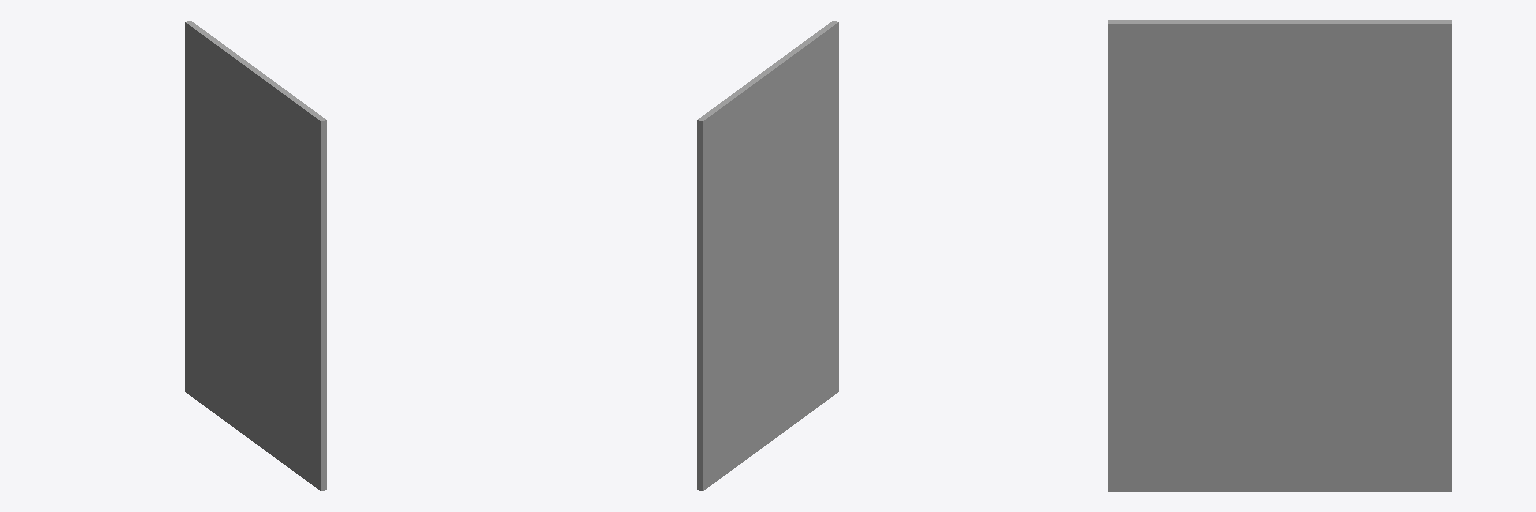
URDF robot description (panda):
<?xml version='1.0' encoding='utf-8'?>
<robot name="panda">

    <link name="link0">
      <inertial>
        <origin xyz="0 0 0.05" rpy="0 0 0" />
        <mass value="4" />
        <inertia ixx="0.4" iyy="0.4" izz="0.4" ixy="0" ixz="0" iyz="0" />
      </inertial>
      <visual>
        <geometry>
          <mesh filename="../../../Model/meshes/visual/link0.obj"/>
        </geometry>
      </visual>
<!--       <collision>
        <geometry>
          <mesh filename="../../../Model/meshes/collision/link0.obj"/>
        </geometry>
      </collision> -->
    </link>
    <link name="link1">
      <inertial>
        <origin xyz="0 0 -0.07" rpy="0 -0 0" />
        <mass value="3" />
        <inertia ixx="0.3" iyy="0.3" izz="0.3" ixy="0" ixz="0" iyz="0" />
      </inertial>
      <visual>
        <geometry>
          <mesh filename="../../../Model/meshes/visual/link1.obj"/>
        </geometry>
      </visual>
      <!-- <collision>
        <geometry>
          <mesh filename="../../../Model/meshes/collision/link1.obj"/>
        </geometry>
      </collision> -->
    </link>
    <link name="link2">
      <inertial>
        <origin xyz="0 -0.1 0" rpy="0 -0 0" />
        <mass value="3" />
        <inertia ixx="0.3" iyy="0.3" izz="0.3" ixy="0" ixz="0" iyz="0" />
      </inertial>
      <visual>
        <geometry>
          <mesh filename="../../../Model/meshes/visual/link2.obj"/>
        </geometry>
      </visual>
      <!-- <collision>
        <geometry>
          <mesh filename="../../../Model/meshes/collision/link2.obj"/>
        </geometry>
      </collision> -->
    </link>
    <link name="link3">
      <inertial>
        <origin xyz="0.04 0 -0.05" rpy="0 -0 0" />
        <mass value="2" />
        <inertia ixx="0.2" iyy="0.2" izz="0.2" ixy="0" ixz="0" iyz="0" />
      </inertial>
      <visual>
        <geometry>
          <mesh filename="../../../Model/meshes/visual/link3.obj"/>
        </geometry>
      </visual>
      <!-- <collision>
        <geometry>
          <mesh filename="../../../Model/meshes/collision/link3.obj"/>
        </geometry>
      </collision> -->
    </link>
    <link name="link4">
      <inertial>
        <origin xyz="-0.04 0.05 0" rpy="0 -0 0" />
        <mass value="2" />
        <inertia ixx="0.2" iyy="0.2" izz="0.2" ixy="0" ixz="0" iyz="0" />
      </inertial>
      <visual>
        <geometry>
          <mesh filename="../../../Model/meshes/visual/link4.obj"/>
        </geometry>
      </visual>
<!--       <collision>
        <geometry>
          <mesh filename="../../../Model/meshes/collision/link4.obj"/>
        </geometry>
      </collision> -->
    </link>
    <link name="link5">
      <inertial>
        <origin xyz="0 0 -0.15" rpy="0 -0 0" />
        <mass value="2" />
        <inertia ixx="0.2" iyy="0.2" izz="0.2" ixy="0" ixz="0" iyz="0" />
      </inertial>
      <visual>
        <geometry>
          <mesh filename="../../../Model/meshes/visual/link5.obj"/>
        </geometry>
      </visual>
<!--       <collision>
        <geometry>
          <mesh filename="../../../Model/meshes/collision/link5.obj"/>
        </geometry>
      </collision> -->
    </link>
    <link name="link6">
      <inertial>
        <origin xyz="0.06 0 0" rpy="0 -0 0" />
        <mass value="1.5" />
        <inertia ixx="0.1" iyy="0.1" izz="0.1" ixy="0" ixz="0" iyz="0" />
      </inertial>
      <visual>
        <geometry>
          <mesh filename="../../../Model/meshes/visual/link6.obj"/>
        </geometry>
      </visual>
      <!-- <collision>
        <geometry>
          <mesh filename="../../../Model/meshes/collision/link6.obj"/>
        </geometry>
      </collision> -->
    </link>
    <link name="link7">
      <inertial>
        <origin xyz="0 0 0.17" rpy="0 -0 0" />
        <mass value="1.8" />
        <inertia ixx="0.09" iyy="0.05" izz="0.07" ixy="0" ixz="0" iyz="0" />
      </inertial>
      <visual>
        <geometry>
          <mesh filename="../../../Model/meshes/visual/link7.obj"/>
        </geometry>
      </visual>
      <visual>
        <origin xyz="0 0 0.11" rpy="0 0 0" />
        <geometry>
          <box size="0.3 0.2 0.005"/>
        </geometry>
      </visual>
      <collision>
        <origin xyz="0 0 0.11" rpy="0 0 0" />
        <geometry>
          <box size="0.3 0.2 0.005"/>
        </geometry>
      </collision>
      <!-- <collision>
        <geometry>
          <mesh filename="../../../Model/meshes/collision/link7.obj"/>
        </geometry>
      </collision> -->
    </link>
    <joint name="joint1" type="revolute">
      <safety_controller k_position="100.0" k_velocity="40.0" soft_lower_limit="-2.8973" soft_upper_limit="2.8973"/>
      <origin rpy="0 0 0" xyz="0 0 0.333"/>
      <parent link="link0"/>
      <child link="link1"/>
      <axis xyz="0 0 1"/>
      <limit effort="87" lower="-2.8973" upper="2.8973" velocity="2.1750"/>
    </joint>
    <joint name="joint2" type="revolute">
      <safety_controller k_position="100.0" k_velocity="40.0" soft_lower_limit="-1.7628" soft_upper_limit="1.7628"/>
      <origin rpy="-1.57079632679 0 0" xyz="0 0 0"/>
      <parent link="link1"/>
      <child link="link2"/>
      <axis xyz="0 0 1"/>
      <calibration falling="-45.0" />
      <limit effort="87" lower="-1.7628" upper="1.7628" velocity="2.1750"/>
    </joint>
    <joint name="joint3" type="revolute">
      <safety_controller k_position="100.0" k_velocity="40.0" soft_lower_limit="-2.8973" soft_upper_limit="2.8973"/>
      <origin rpy="1.57079632679 0 0" xyz="0 -0.316 0"/>
      <parent link="link2"/>
      <child link="link3"/>
      <axis xyz="0 0 1"/>
      <limit effort="87" lower="-2.8973" upper="2.8973" velocity="2.1750"/>
    </joint>
    <joint name="joint4" type="revolute">
      <safety_controller k_position="100.0" k_velocity="40.0" soft_lower_limit="-3.0718" soft_upper_limit="-0.0698"/>
      <origin rpy="1.57079632679 0 0" xyz="0.0825 0 0"/>
      <parent link="link3"/>
      <child link="link4"/>
      <axis xyz="0 0 1"/>
      <calibration falling="-125.0" />
      <limit effort="87" lower="-3.0718" upper="-0.0698" velocity="2.1750"/>
    </joint>
    <joint name="joint5" type="revolute">
      <safety_controller k_position="100.0" k_velocity="40.0" soft_lower_limit="-2.8973" soft_upper_limit="2.8973"/>
      <origin rpy="-1.57079632679 0 0" xyz="-0.0825 0.384 0"/>
      <parent link="link4"/>
      <child link="link5"/>
      <axis xyz="0 0 1"/>
      <limit effort="12" lower="-2.8973" upper="2.8973" velocity="2.6100"/>
    </joint>
    <joint name="joint6" type="revolute">
      <safety_controller k_position="100.0" k_velocity="40.0" soft_lower_limit="-0.0175" soft_upper_limit="3.7525"/>
      <origin rpy="1.57079632679 0 0" xyz="0 0 0"/>
      <parent link="link5"/>
      <child link="link6"/>
      <axis xyz="0 0 1"/>
      <calibration falling="80.0" />
      <limit effort="12" lower="-0.0175" upper="3.7525" velocity="2.6100"/>
    </joint>
    <joint name="joint7" type="revolute">
      <safety_controller k_position="100.0" k_velocity="40.0" soft_lower_limit="-2.8973" soft_upper_limit="2.8973"/>
      <origin rpy="1.57079632679 0 0" xyz="0.088 0 0"/>
      <parent link="link6"/>
      <child link="link7"/>
      <axis xyz="0 0 1"/>
      <limit effort="12" lower="-2.8973" upper="2.8973" velocity="2.6100"/>
    </joint>
</robot>

--- What the picture shows (computed from the rendered views, not written in the file) ---
The picture shows the robot from 3 angles, left to right: view 1: azimuth 30°, elevation 25°; view 2: azimuth 150°, elevation 25°; view 3: azimuth 270°, elevation 25°; orthographic projection.
Model panda with 8 links and 7 joints (7 revolute), rooted at link0, posed joints at zero except 1 at the middle of their limits (joint4 = -1.57).
Visible links, largest first — view 1: link7; view 2: link7; view 3: link7.
Boxes of the visible links, x1,y1,x2,y2 form: link7: (185, 21, 326, 490); link7: (697, 21, 838, 490); link7: (1108, 20, 1451, 491).
Bounding box of the posed robot: 0.005 × 0.2 × 0.3 m (x, y, z).
Geometry: only primitive shapes (box / cylinder / sphere) drawn; not drawn: 8 mesh visuals (reference in a form the renderer does not follow).